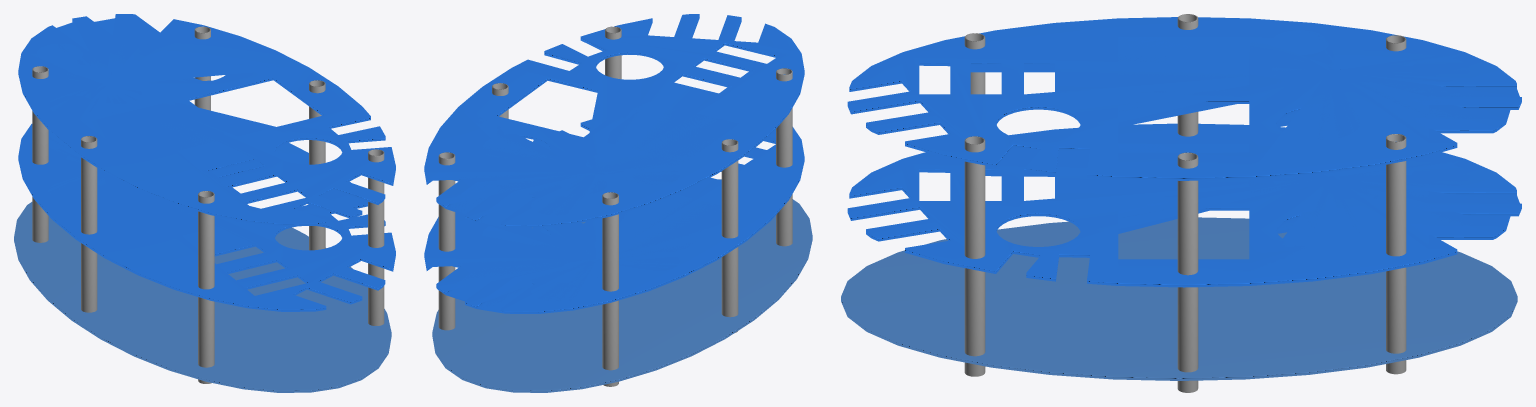
Rendered from tool org.fbx.
3 renders of one model, left to right at view 1: azimuth 30°, elevation 25°; view 2: azimuth 150°, elevation 25°; view 3: azimuth 270°, elevation 25°, orthographic. The views are drawn at different scales.
Parts seen in each view (by area): view 1: Cylinder.002, Cylinder.011, Cylinder.006; view 2: Cylinder.002, Cylinder.011, Cylinder.006; view 3: Cylinder.002, Cylinder.011, Cylinder.006.
Boxes of the visible parts, bbox=[...] form: Cylinder.002: bbox=[18, 14, 395, 311]; Cylinder.011: bbox=[14, 202, 391, 392]; Cylinder.006: bbox=[32, 26, 384, 383]; Cylinder.002: bbox=[424, 14, 804, 313]; Cylinder.011: bbox=[432, 179, 812, 392]; Cylinder.006: bbox=[438, 26, 792, 386]; Cylinder.002: bbox=[847, 17, 1521, 287]; Cylinder.011: bbox=[841, 217, 1517, 380]; Cylinder.006: bbox=[964, 14, 1406, 392].
Bounding box in the file's own units: 909 × 603 × 1606.
